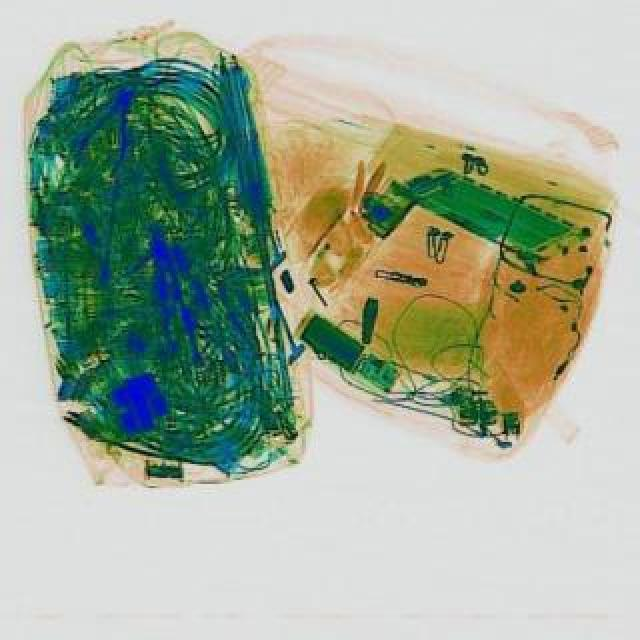wrench: (142, 222, 206, 364), (74, 76, 154, 180)
